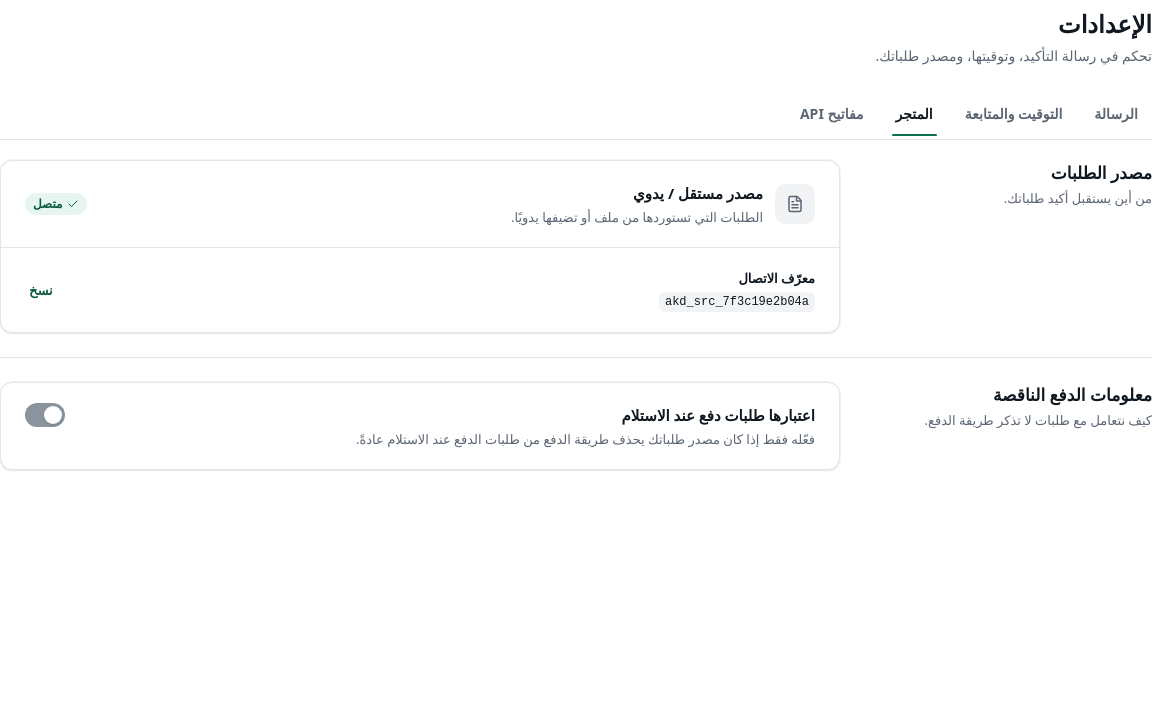
Test case: standalone Store tab › warns about prepaid orders only while missing payment counts as COD
Check: the heading "معلومات الدفع الناقصة" is shown, box [993,383,1152,406]
Check: the text "فعّله فقط إذا كان مصدر طلباتك يحذف طريقة الدفع من طلبات الدفع عند الاستلام عادةً." is shown, box [356,430,815,448]
Click the switch named "اعتبارها طلبات دفع عند الاستلام". click: (45, 415)
box: [25,403,65,427]
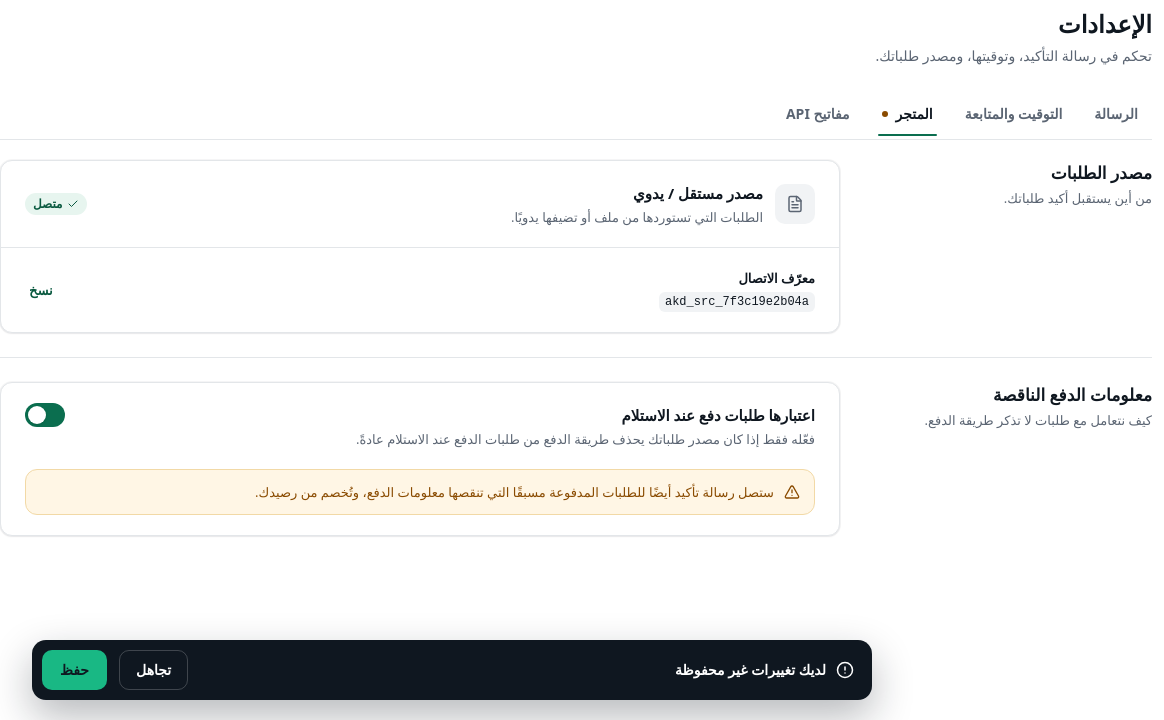
Check: the text "ستصل رسالة تأكيد أيضًا للطلبات المدفوعة مسبقًا التي تنقصها معلومات الدفع، وتُخصم من رصيدك." is shown, box [255,483,774,501]
Click the switch named "اعتبارها طلبات دفع عند الاستلام". click: (45, 415)
box: [25,403,65,427]
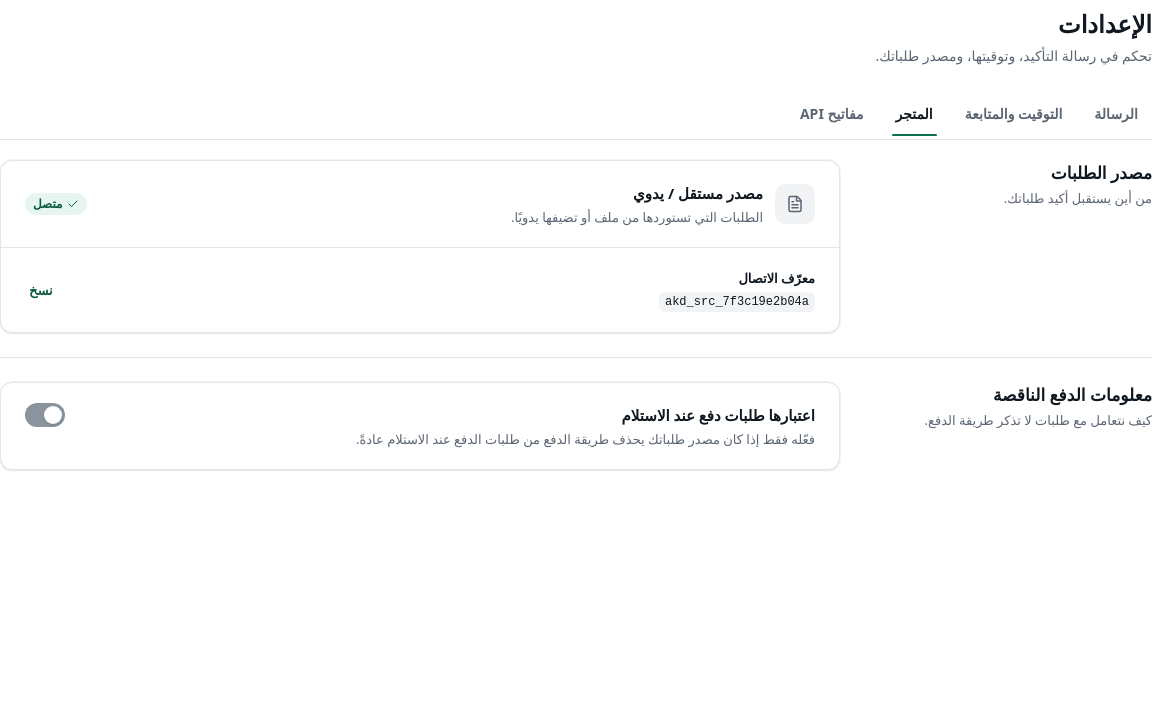
Check: the text "ستصل رسالة تأكيد أيضًا للطلبات المدفوعة مسبقًا التي تنقصها معلومات الدفع، وتُخصم من رصيدك." is gone
Check: the text "تغييرات غير محفوظة" is gone
